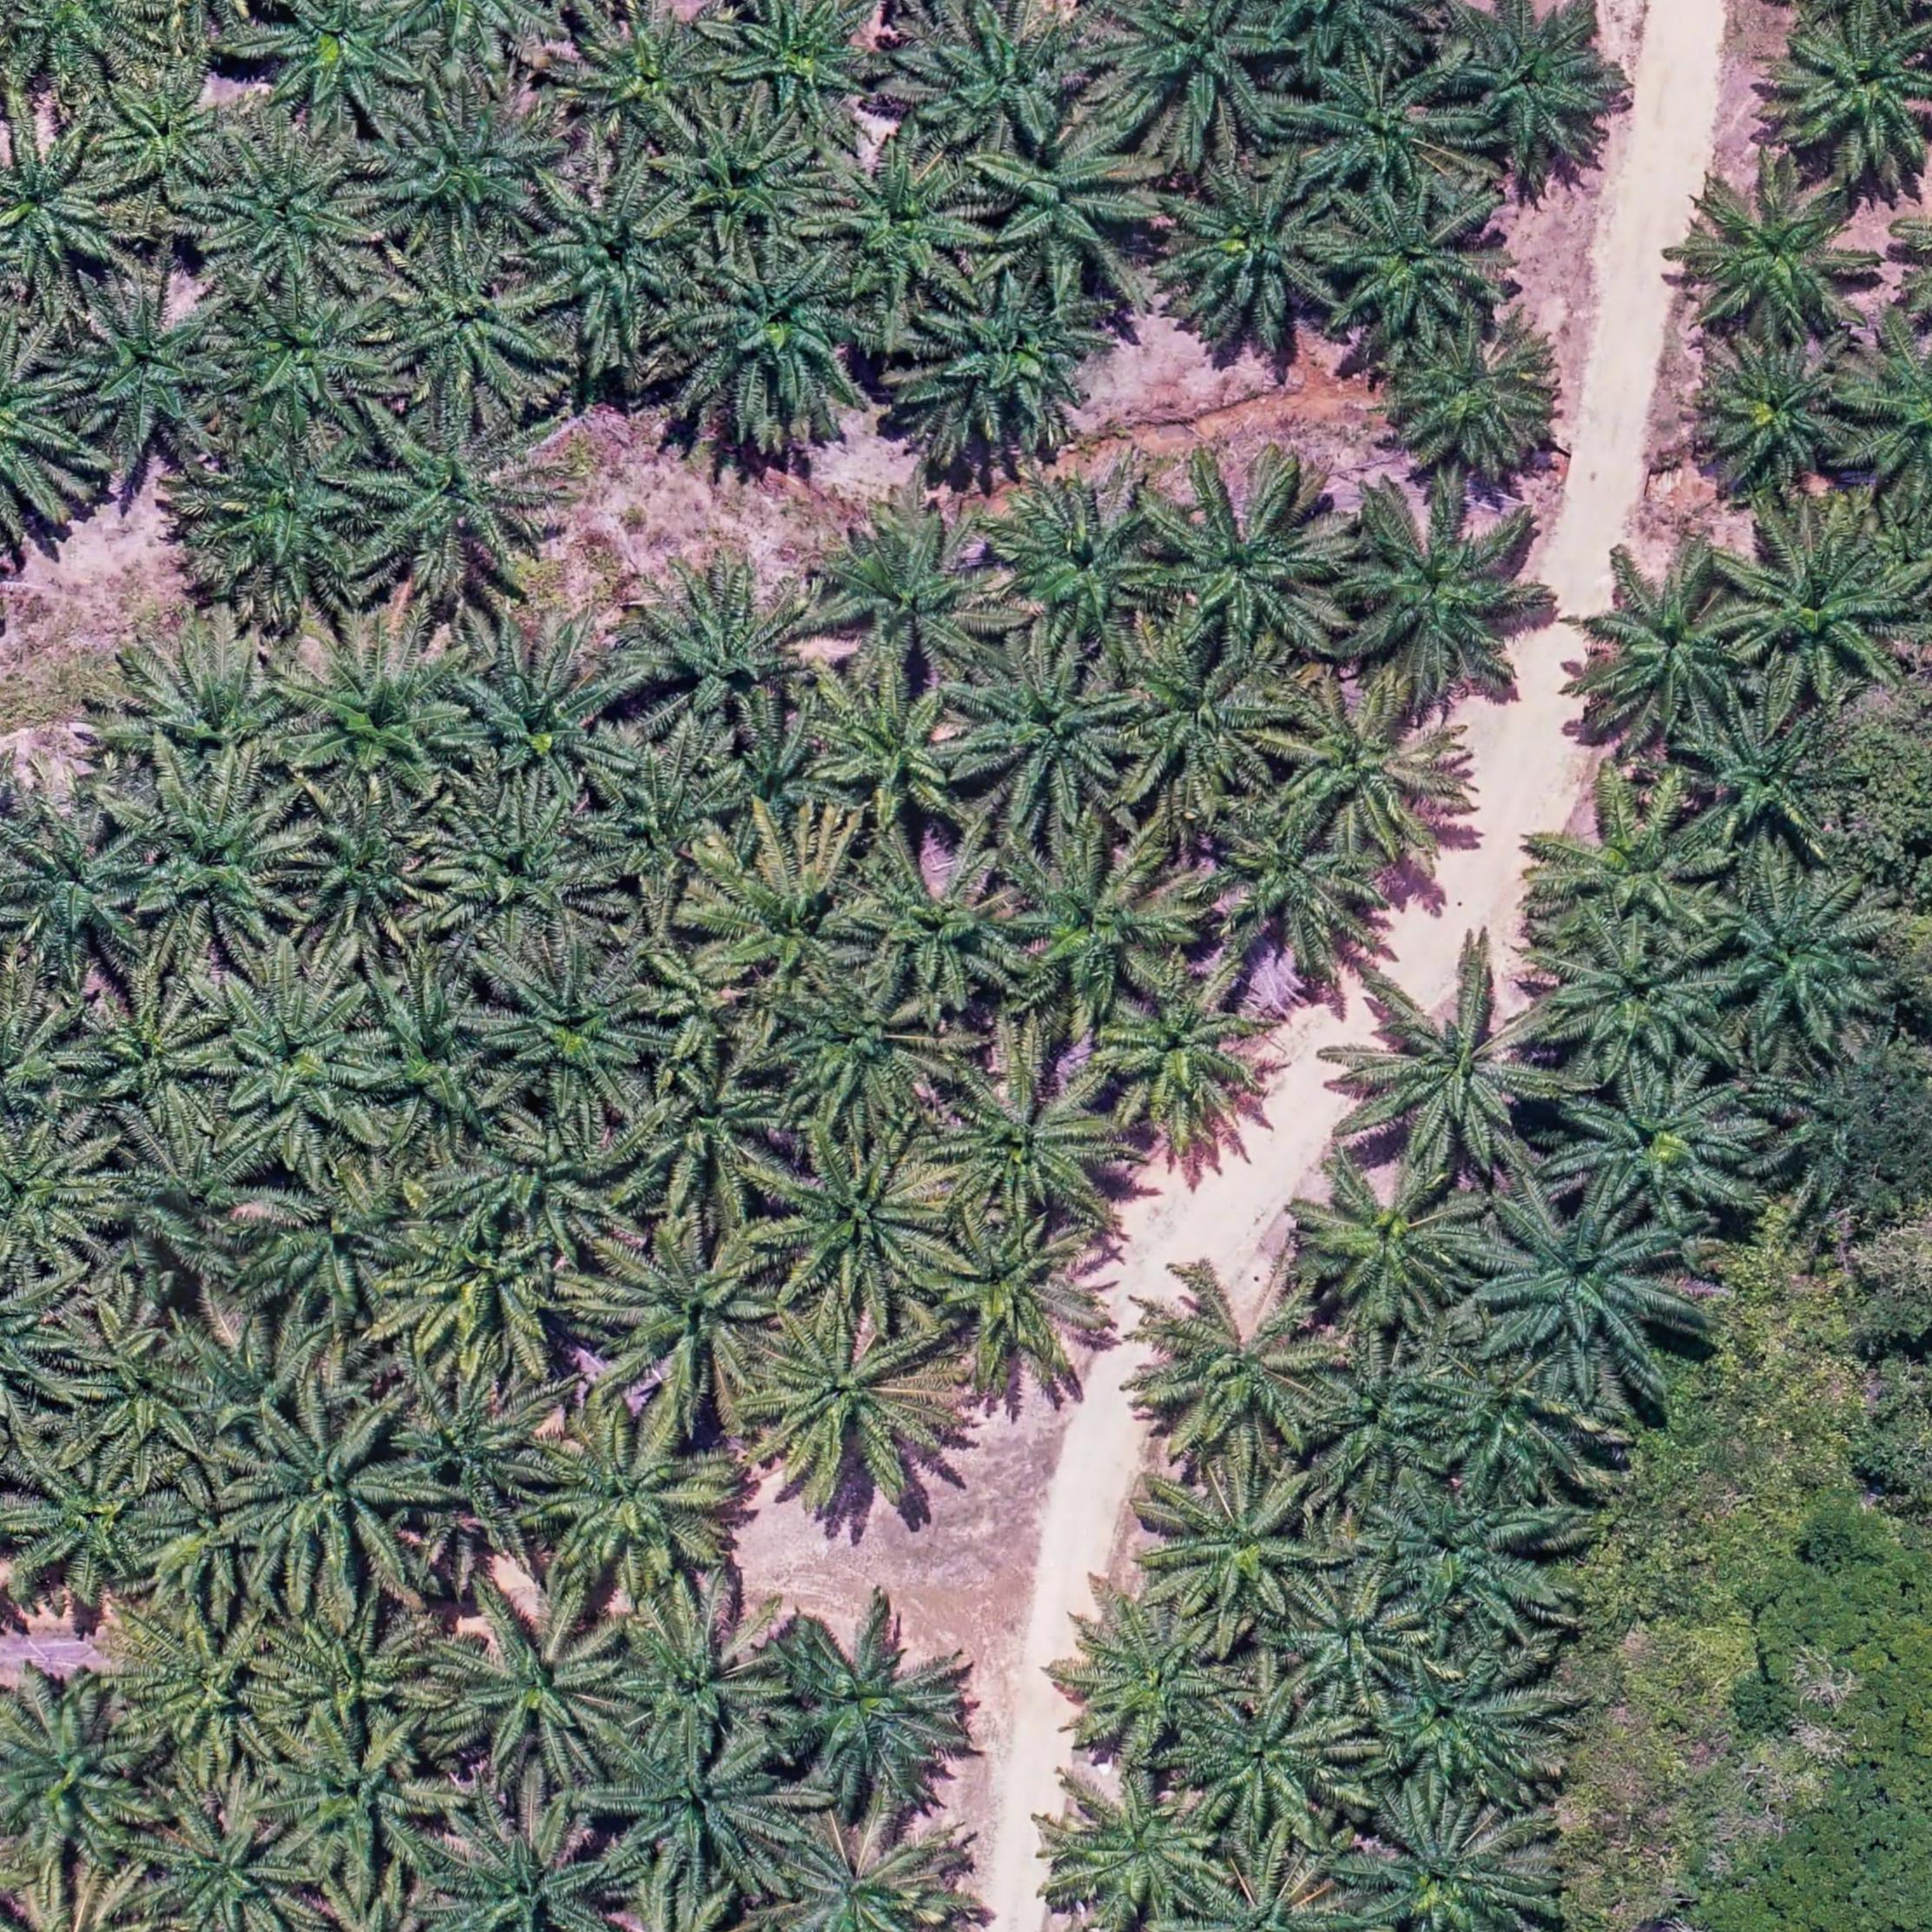palmtree: (1325, 485, 1545, 694), (1350, 966, 1569, 1175), (740, 1300, 957, 1509), (428, 1589, 639, 1792), (525, 1408, 741, 1605), (998, 833, 1203, 1033), (232, 1398, 432, 1599), (1150, 464, 1353, 662), (1141, 1270, 1345, 1465), (352, 410, 559, 602), (807, 492, 1008, 686), (904, 269, 1115, 455), (584, 1219, 784, 1414), (672, 241, 874, 432), (280, 625, 485, 812), (203, 962, 398, 1159), (766, 1612, 968, 1801), (952, 640, 1148, 833), (1154, 157, 1359, 341), (587, 1721, 798, 1900), (1104, 628, 1304, 816), (630, 564, 833, 748), (1725, 513, 1920, 704), (915, 1203, 1115, 1389), (373, 1205, 587, 1378), (1483, 1191, 1688, 1371), (425, 784, 625, 968), (1270, 679, 1468, 863), (1690, 161, 1884, 347), (122, 773, 317, 959), (931, 1049, 1127, 1230), (110, 633, 318, 801), (1582, 557, 1769, 743), (985, 474, 1177, 656), (479, 947, 669, 1129), (763, 1132, 954, 1313), (1196, 794, 1387, 973), (262, 1714, 453, 1893), (1095, 964, 1276, 1152), (234, 1164, 428, 1338), (1711, 874, 1904, 1047), (373, 237, 561, 412), (453, 635, 642, 809), (442, 1106, 646, 1267), (1300, 1161, 1484, 1338), (844, 844, 1033, 1016), (110, 1606, 292, 1783), (1375, 1479, 1564, 1649), (978, 124, 1162, 297), (1536, 786, 1729, 950), (904, 7, 1108, 163), (58, 280, 235, 455), (807, 671, 985, 844), (1384, 317, 1564, 488), (1440, 5, 1622, 175), (198, 435, 382, 603), (203, 134, 389, 301), (1539, 924, 1734, 1081), (770, 966, 952, 1134), (600, 1601, 786, 1766), (1093, 0, 1299, 149), (1691, 331, 1872, 499), (257, 1592, 444, 1753), (529, 172, 706, 341), (352, 968, 520, 1146), (382, 1368, 563, 1534), (694, 846, 878, 1008), (373, 92, 561, 251), (1559, 1070, 1750, 1226), (812, 143, 993, 308), (1320, 186, 1504, 347), (1371, 1645, 1559, 1803), (48, 1300, 219, 1470), (1070, 1596, 1244, 1764), (1292, 51, 1476, 209), (0, 1691, 154, 1879), (106, 1095, 281, 1260), (1771, 7, 1932, 186), (1155, 1472, 1334, 1629), (280, 787, 449, 952), (1187, 1683, 1361, 1842), (1686, 701, 1861, 856), (646, 1040, 800, 1215), (64, 980, 232, 1139), (219, 287, 398, 435), (428, 1803, 633, 1932), (580, 748, 747, 908), (563, 7, 736, 159), (656, 106, 832, 257), (1353, 1803, 1552, 1932), (1060, 1769, 1228, 1921), (12, 1444, 177, 1598), (1755, 1049, 1920, 1203), (140, 1796, 317, 1932), (724, 0, 899, 136), (0, 120, 127, 301), (12, 816, 163, 968), (768, 1812, 957, 1932), (1424, 1359, 1587, 1495), (253, 0, 425, 129), (625, 927, 768, 1079), (97, 65, 253, 202), (180, 1318, 333, 1453), (1307, 1350, 1456, 1486), (1836, 315, 1932, 517), (0, 327, 94, 531), (0, 1120, 122, 1272), (136, 1474, 269, 1614), (1288, 1576, 1424, 1704), (724, 724, 847, 849), (1253, 0, 1447, 71), (7, 0, 159, 81), (389, 0, 564, 65)
